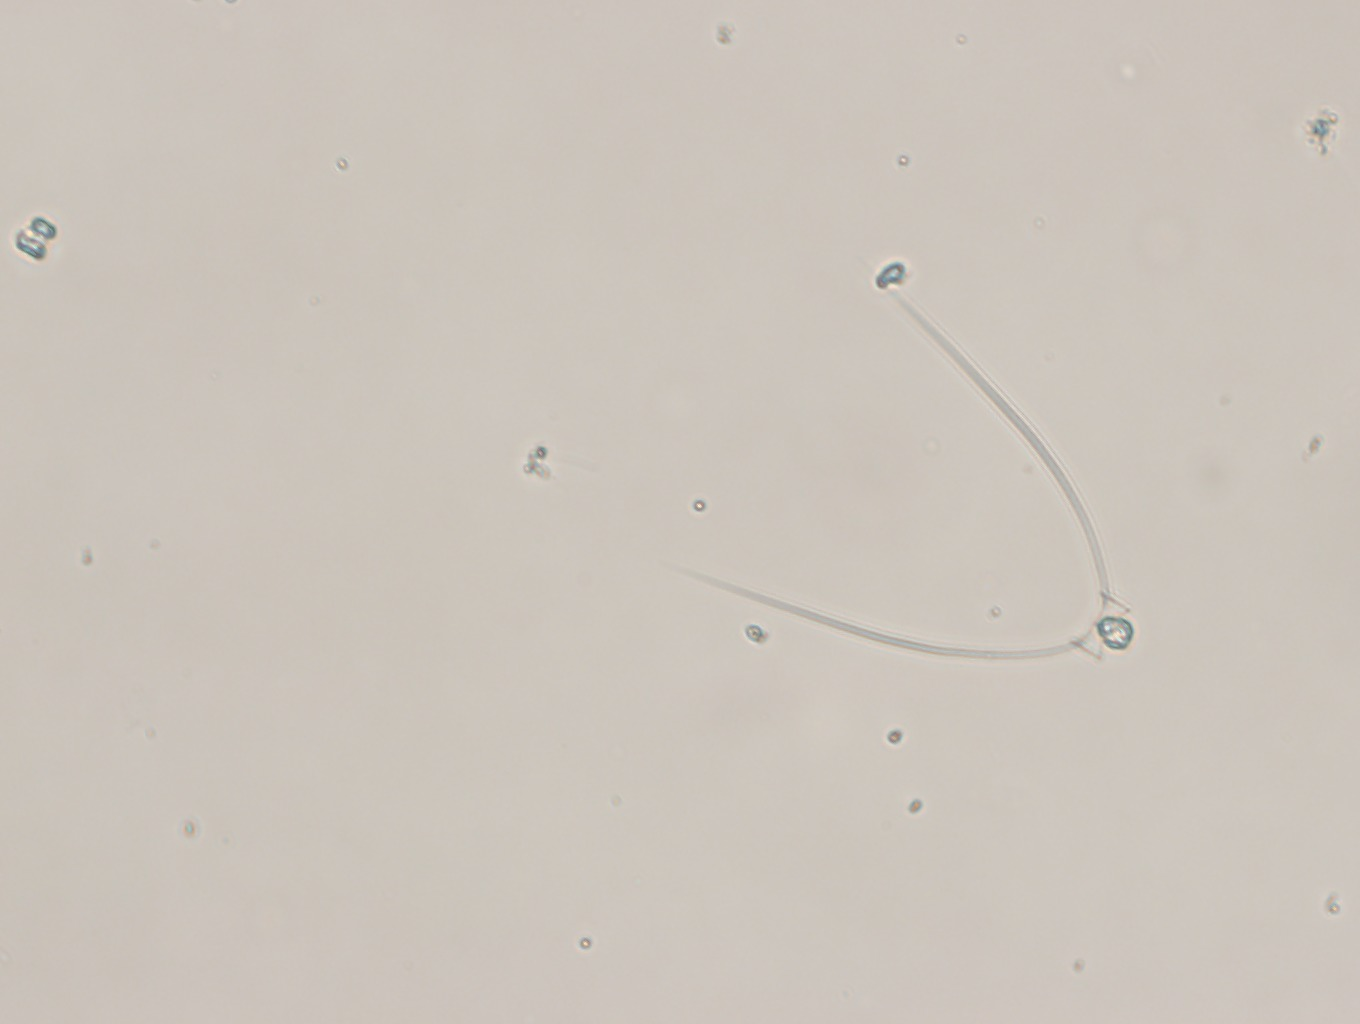chaetoceros: (675, 270, 1142, 672)
